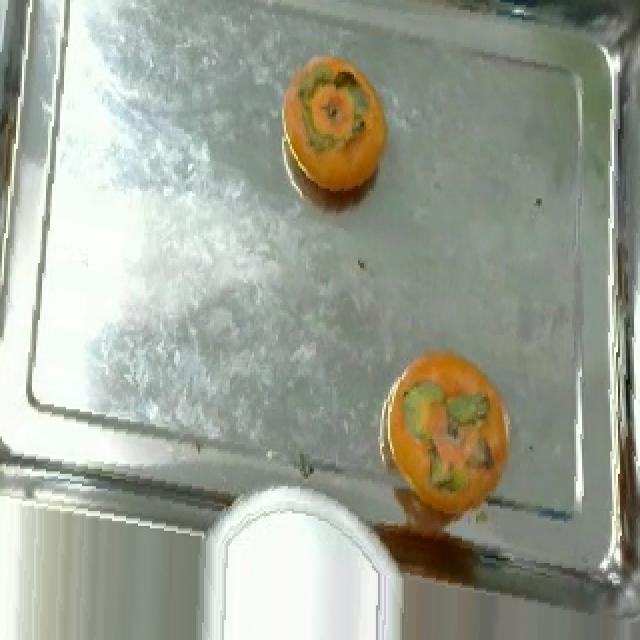Fruit: (368, 335, 528, 533), (280, 42, 394, 210)
